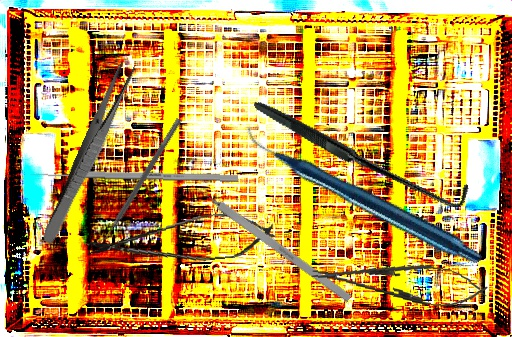Dressing Forceps: (39, 59, 139, 248)
Handpiece: (245, 59, 483, 328)
Hook Surgical: (252, 37, 475, 266), (188, 180, 352, 303)
Micro Scissor: (85, 208, 277, 273)
Needle Holder: (308, 251, 490, 313)
Pusher: (29, 170, 239, 182)
Spatula Surgical: (97, 114, 182, 246)
